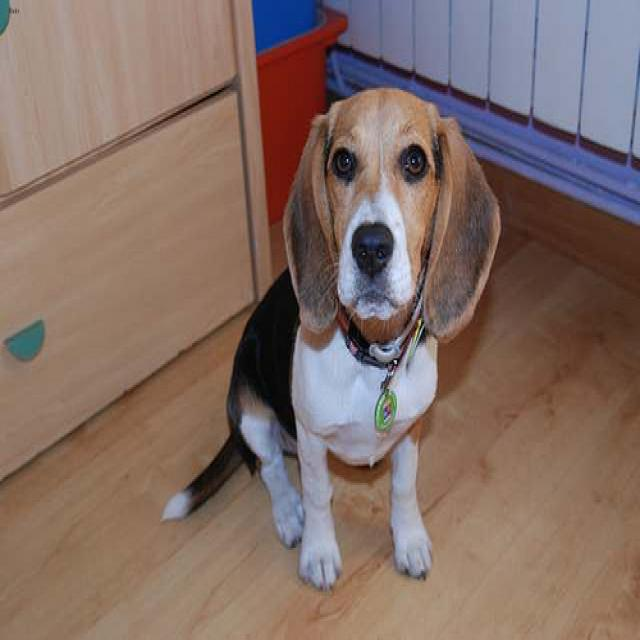dog-beagle: (150, 77, 513, 609)
